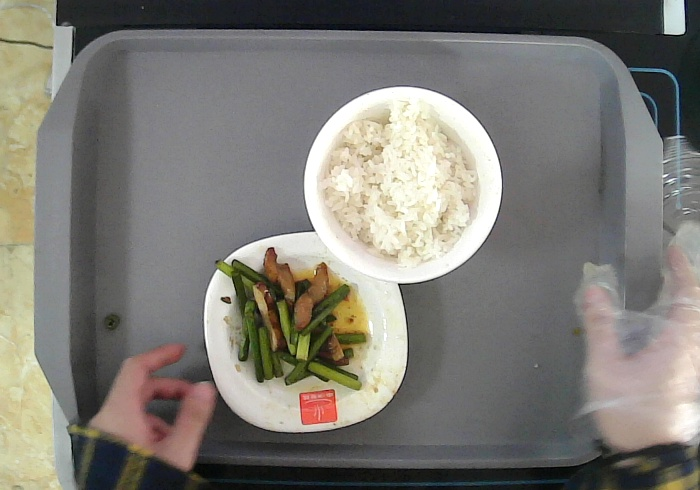SHKJ-Bai_Se_Si_Fang_Cai_Die: (202, 230, 409, 433)
SHKJ-Fan_Wan: (303, 84, 503, 284)
